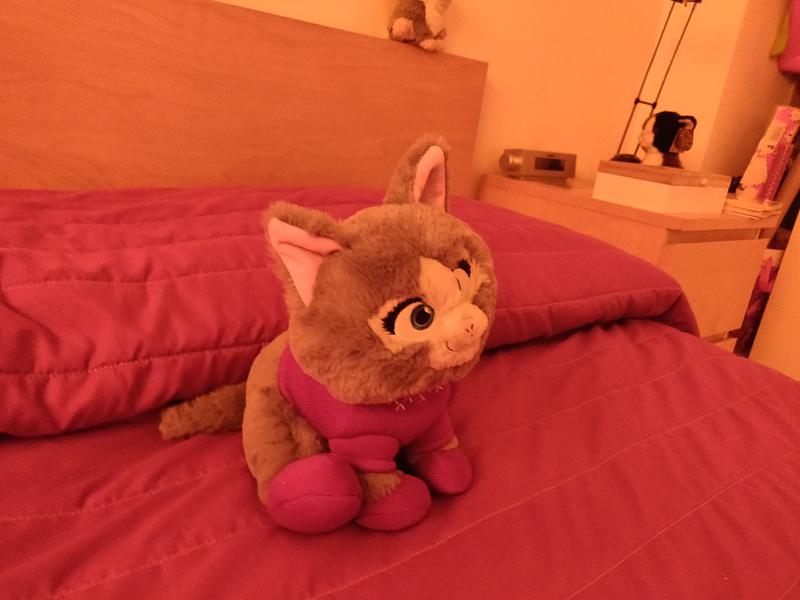kitten: (149, 132, 514, 539)
